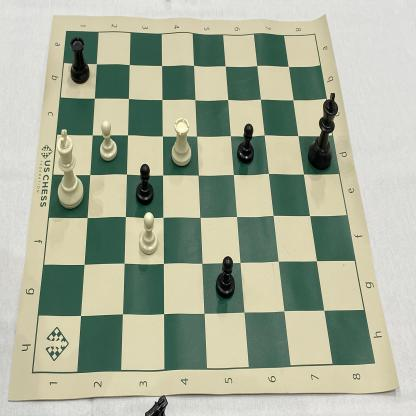black-king: (304, 87, 342, 176)
black-pawn: (211, 252, 242, 305), (132, 155, 156, 210), (235, 116, 258, 168)
black-rook: (63, 29, 96, 90)
white-king: (52, 122, 88, 214)
white-pawn: (95, 116, 121, 165), (137, 210, 162, 258)
white-rook: (167, 116, 195, 171)
